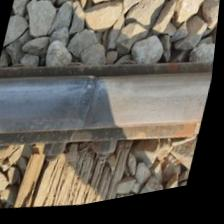person: (34, 47, 153, 166)
